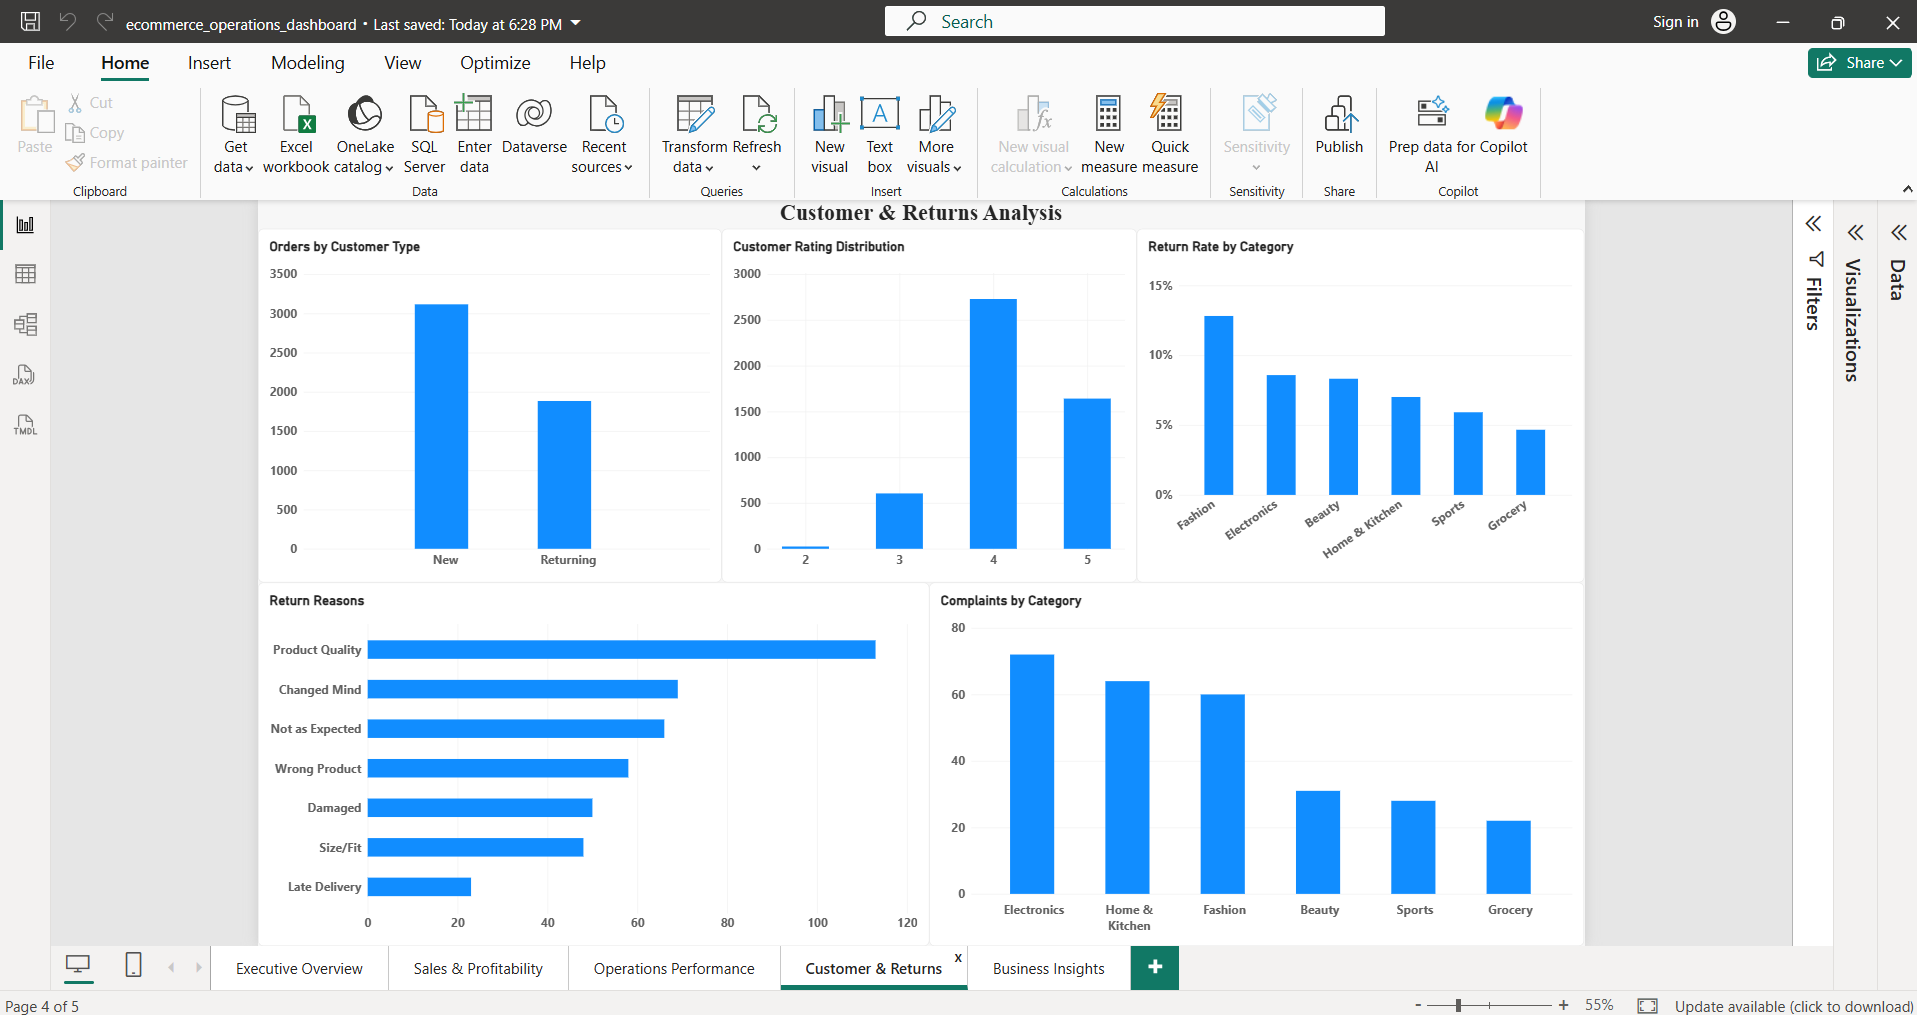

Layout of this report page (visuals, bound fields, positions):
{"tool":"powerbi","page":{"name":"Customer & Returns","canvas":[1920,1080],"ordinal":3},"visuals":[{"type":"clusteredColumnChart","title":"Orders by Customer Type","fields":{"Category":["ecommerce_operations_analytics.Customer_Type"],"Y":["ecommerce_operations_analytics.Total Orders"]},"box":[0,41.6,671.4,512.1],"z":0},{"type":"clusteredColumnChart","title":"Customer Rating Distribution","fields":{"Category":["ecommerce_operations_analytics.Customer_Rating"],"Y":["ecommerce_operations_analytics.Total Orders"]},"box":[671.4,41.6,600.8,512.1],"z":1},{"type":"clusteredColumnChart","title":"Return Rate by Category","fields":{"Category":["ecommerce_operations_analytics.Category"],"Y":["ecommerce_operations_analytics.Return Rate"]},"box":[1272.2,41.6,647.9,512.1],"z":2},{"type":"clusteredBarChart","title":"Return Reasons","fields":{"Category":["ecommerce_operations_analytics.Return_Reason"],"Y":["ecommerce_operations_analytics.Total Orders"]},"box":[0,553.8,971.8,526.6],"z":3},{"type":"textbox","box":[0,0,1920.1,41.6],"z":4},{"type":"clusteredColumnChart","title":"Complaints by Category","fields":{"Category":["ecommerce_operations_analytics.Category"],"Y":["ecommerce_operations_analytics.Total Orders"]},"box":[971.8,553.8,948.3,526.6],"z":5}]}

Visuals, with their boxes on the page's 1920x1080 design canvas (x1, y1, x2, y2). These are canvas units, not pixel positions in the 1917x1015 screenshot, which may show the page scaled, cropped or inside an application window:
"Orders by Customer Type" clusteredColumnChart: x1=0 y1=42 x2=671 y2=554
"Customer Rating Distribution" clusteredColumnChart: x1=671 y1=42 x2=1272 y2=554
"Return Rate by Category" clusteredColumnChart: x1=1272 y1=42 x2=1920 y2=554
"Return Reasons" clusteredBarChart: x1=0 y1=554 x2=972 y2=1080
textbox: x1=0 y1=0 x2=1920 y2=42
"Complaints by Category" clusteredColumnChart: x1=972 y1=554 x2=1920 y2=1080
